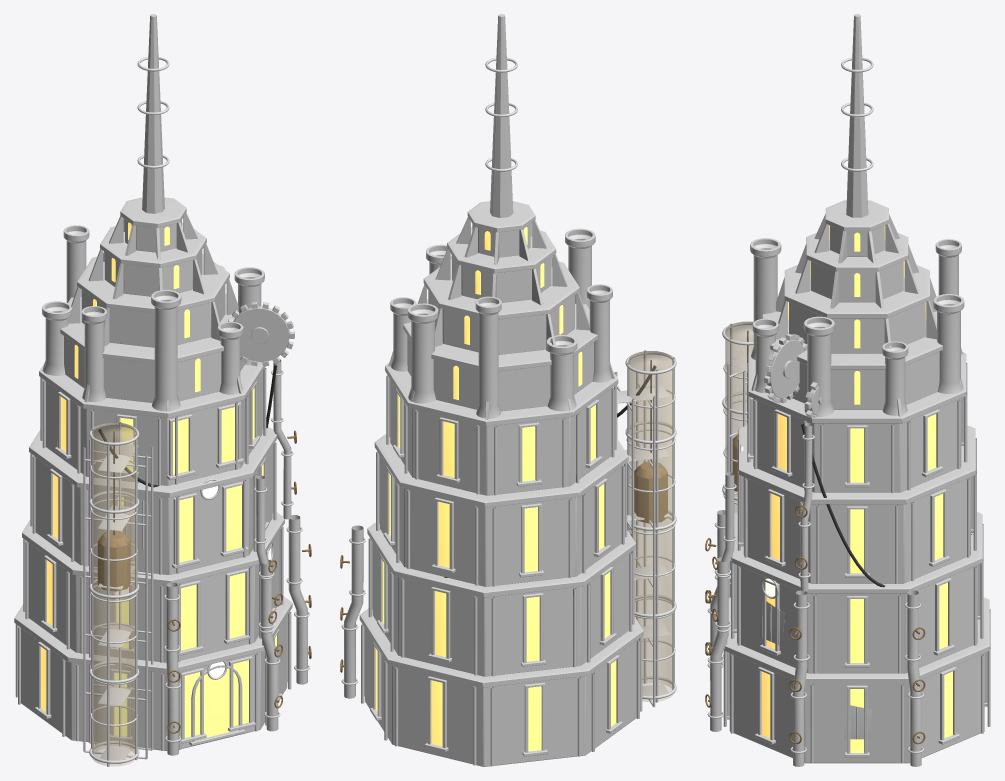
File: spire.glb
3 renders of one model, left to right at view 1: azimuth 30°, elevation 25°; view 2: azimuth 150°, elevation 25°; view 3: azimuth 270°, elevation 25°, orthographic. The views are drawn at different scales.
Visible parts, largest first — view 1: spire_deco_wall, spire_deco_trim, spire_lift_glass, spire_window_glass, spire_brass_pipe, spire_iron_decay, spire_soot_iron, spire_bronze, spire_wood, spire_gold, spire_cable; view 2: spire_deco_wall, spire_deco_trim, spire_soot_iron, spire_lift_glass, spire_window_glass, spire_iron_decay, spire_brass_pipe, spire_wood, spire_bronze, spire_gold; view 3: spire_deco_wall, spire_deco_trim, spire_brass_pipe, spire_soot_iron, spire_window_glass, spire_iron_decay, spire_lift_glass, spire_bronze, spire_cable.
Part boxes in pixels (box(x1,y1,x2,y2)): spire_deco_wall: box(21, 219, 287, 750); spire_deco_trim: box(14, 197, 292, 750); spire_lift_glass: box(92, 422, 136, 766); spire_window_glass: box(41, 222, 276, 737); spire_brass_pipe: box(112, 57, 309, 755); spire_iron_decay: box(83, 14, 268, 766); spire_soot_iron: box(42, 225, 273, 599); spire_bronze: box(97, 430, 311, 733); spire_wood: box(98, 444, 138, 764); spire_gold: box(89, 423, 139, 763); spire_cable: box(98, 365, 276, 534); spire_deco_wall: box(365, 224, 636, 766); spire_deco_trim: box(359, 201, 643, 766); spire_soot_iron: box(390, 228, 612, 418); spire_lift_glass: box(628, 351, 673, 701); spire_window_glass: box(375, 227, 616, 751); spire_iron_decay: box(490, 14, 675, 707); spire_brass_pipe: box(341, 57, 517, 698); spire_wood: box(617, 386, 669, 696); spire_bronze: box(340, 461, 667, 672); spire_gold: box(625, 351, 676, 699); spire_deco_wall: box(729, 225, 984, 763); spire_deco_trim: box(723, 200, 990, 763); spire_brass_pipe: box(707, 57, 923, 766); spire_soot_iron: box(750, 238, 964, 739); spire_window_glass: box(761, 225, 952, 752); spire_iron_decay: box(723, 14, 868, 739); spire_lift_glass: box(725, 321, 753, 512); spire_bronze: box(705, 434, 925, 744); spire_cable: box(747, 331, 971, 587).
Size of the model in its own units: 10.5 by 28.04 by 10.44.
